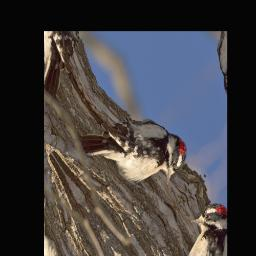Woodpecker: (76, 73, 195, 225)
